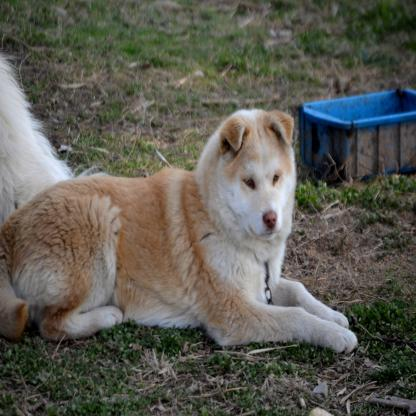dog: (0, 56, 361, 351)
